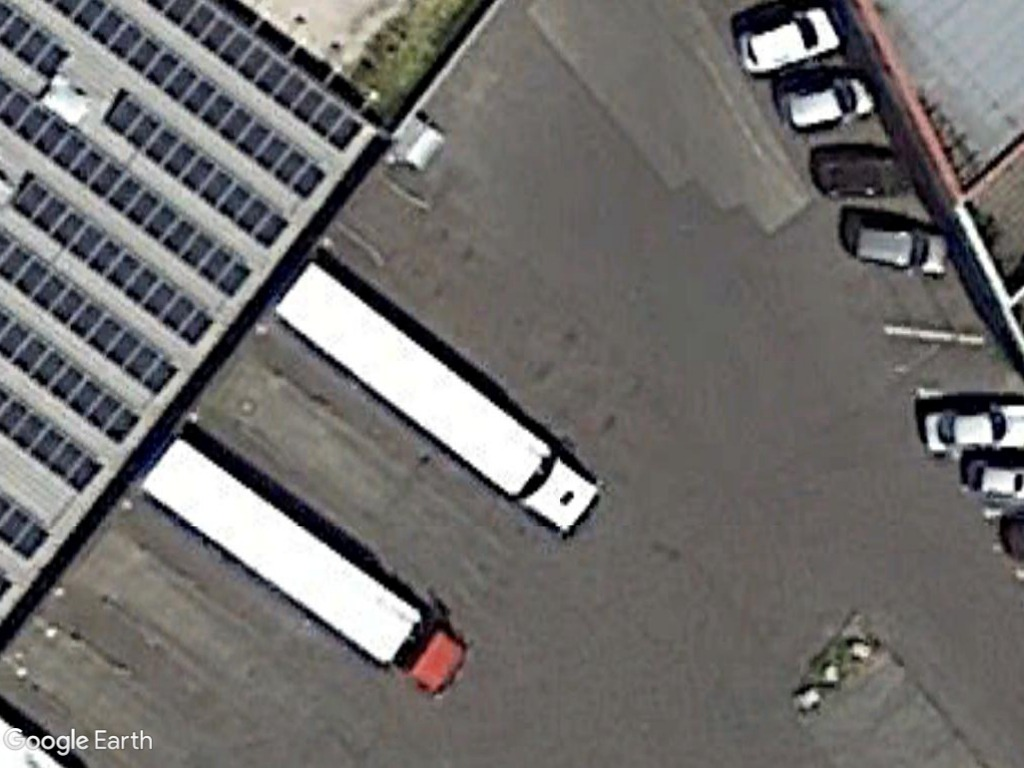car: (735, 4, 848, 82), (775, 70, 882, 142), (848, 216, 953, 278)
longvehicle: (271, 253, 609, 543), (131, 432, 479, 697)
